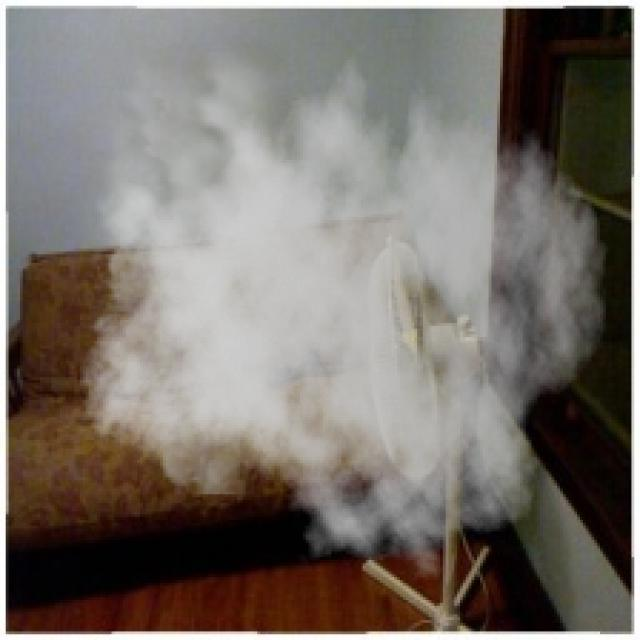Smoke: (62, 20, 608, 580)
